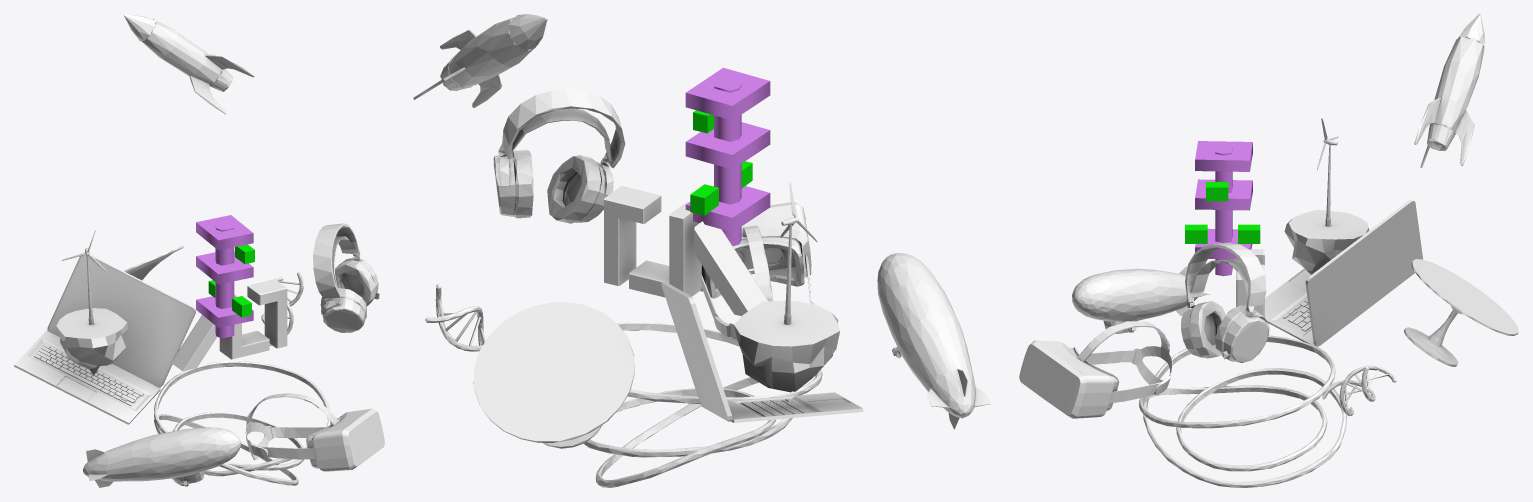
The picture shows the model from 3 angles, left to right: view 1: azimuth 30°, elevation 25°; view 2: azimuth 150°, elevation 25°; view 3: azimuth 270°, elevation 25°; orthographic projection. The views are drawn at different scales.
Parts seen in each view (by area): view 1: Notebook, Zeppelin, VR Headset, tower, Headphones, Altair Studio-Logo, Rocket.003, Roundcube.001, Curly, Table, DNA; view 2: Table, Altair Studio-Logo, tower, Headphones, Zeppelin, Roundcube.001, Curly, Notebook, VR Headset, Rocket.003, DNA; view 3: Notebook, VR Headset, Curly, Headphones, tower, Zeppelin, Rocket.003, Table, Roundcube.001, DNA, Altair Studio-Logo.
Boxes of the visible parts, bbox=[...] form: Notebook: bbox=[14, 252, 195, 424]; Zeppelin: bbox=[83, 427, 241, 487]; VR Headset: bbox=[245, 393, 384, 471]; tower: bbox=[196, 215, 254, 338]; Headphones: bbox=[313, 223, 379, 332]; Altair Studio-Logo: bbox=[171, 279, 287, 371]; Rocket.003: bbox=[123, 14, 254, 114]; Roundcube.001: bbox=[56, 230, 127, 374]; Curly: bbox=[154, 361, 330, 485]; Table: bbox=[124, 246, 183, 280]; DNA: bbox=[261, 272, 303, 345]; Table: bbox=[473, 301, 634, 448]; Altair Studio-Logo: bbox=[604, 186, 767, 315]; tower: bbox=[685, 67, 770, 246]; Headphones: bbox=[493, 89, 625, 223]; Zeppelin: bbox=[877, 253, 990, 429]; Roundcube.001: bbox=[734, 182, 839, 392]; Curly: bbox=[583, 322, 822, 487]; Notebook: bbox=[661, 282, 863, 422]; VR Headset: bbox=[700, 202, 813, 340]; Rocket.003: bbox=[413, 14, 547, 107]; DNA: bbox=[425, 284, 485, 351]; Notebook: bbox=[1265, 199, 1423, 346]; VR Headset: bbox=[1019, 321, 1172, 418]; Curly: bbox=[1138, 335, 1346, 487]; Headphones: bbox=[1181, 243, 1269, 362]; tower: bbox=[1185, 141, 1260, 276]; Zeppelin: bbox=[1072, 266, 1209, 333]; Rocket.003: bbox=[1414, 14, 1484, 167]; Table: bbox=[1404, 259, 1518, 366]; Roundcube.001: bbox=[1284, 118, 1369, 274]; DNA: bbox=[1322, 365, 1396, 416]; Altair Studio-Logo: bbox=[1236, 249, 1264, 320].
Size of the model in its own units: 63.68 by 75.73 by 77.01.
Materials: 13 (10 with a texture image).
